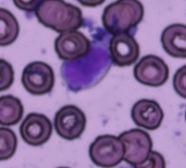M: (60, 41, 113, 92)
